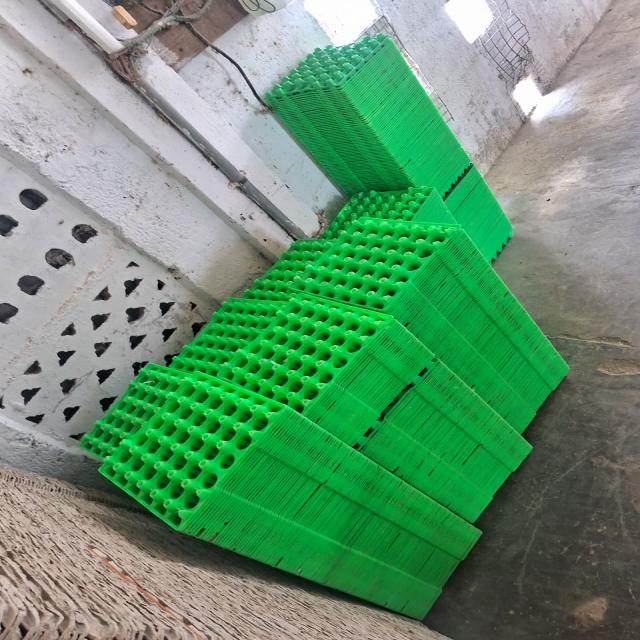egg_tray: (0, 161, 211, 441)
